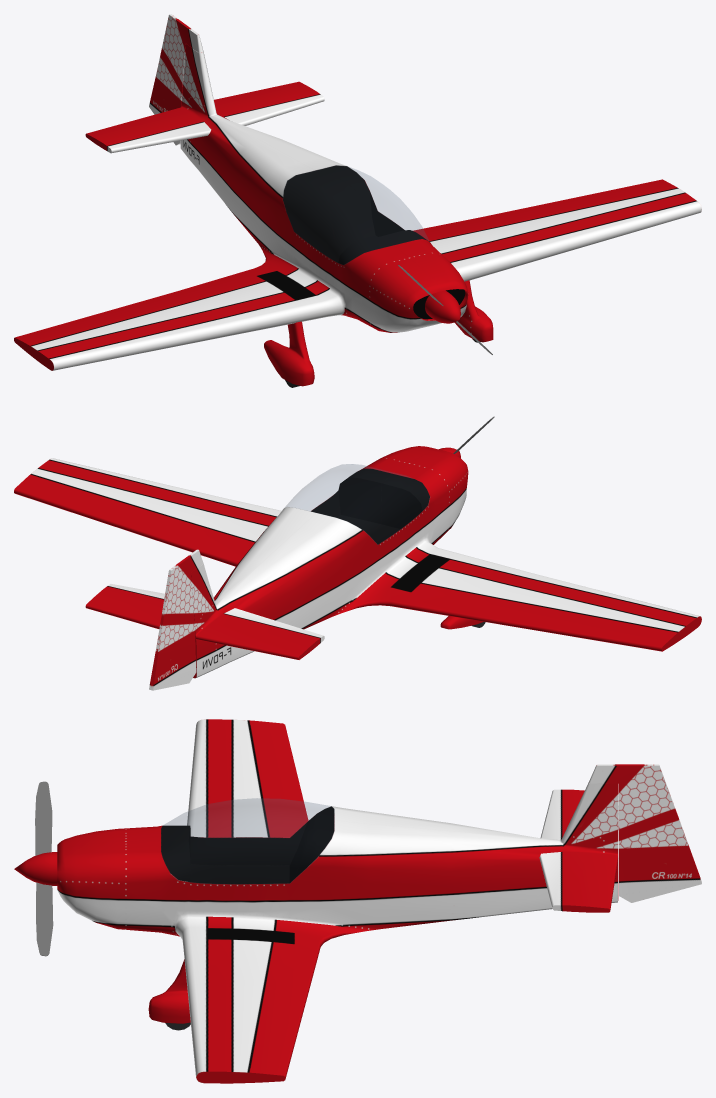
File: aero100.glb
The picture shows the model from 3 angles, top to bottom: view 1: azimuth 30°, elevation 25°; view 2: azimuth 150°, elevation 25°; view 3: azimuth 270°, elevation 25°; orthographic projection. The views are drawn at different scales.
Visible parts, largest first — view 1: Cube.002; view 2: Cube.002; view 3: Cube.002.
Boxes of the visible parts, x1,y1,x2,y2 form: Cube.002: (14,14,701,387); Cube.002: (14,416,701,690); Cube.002: (14,719,701,1083).
Bounding box in the file's own units: 5.54 × 1.56 × 4.57.
Materials: 1 (1 with a texture image).
